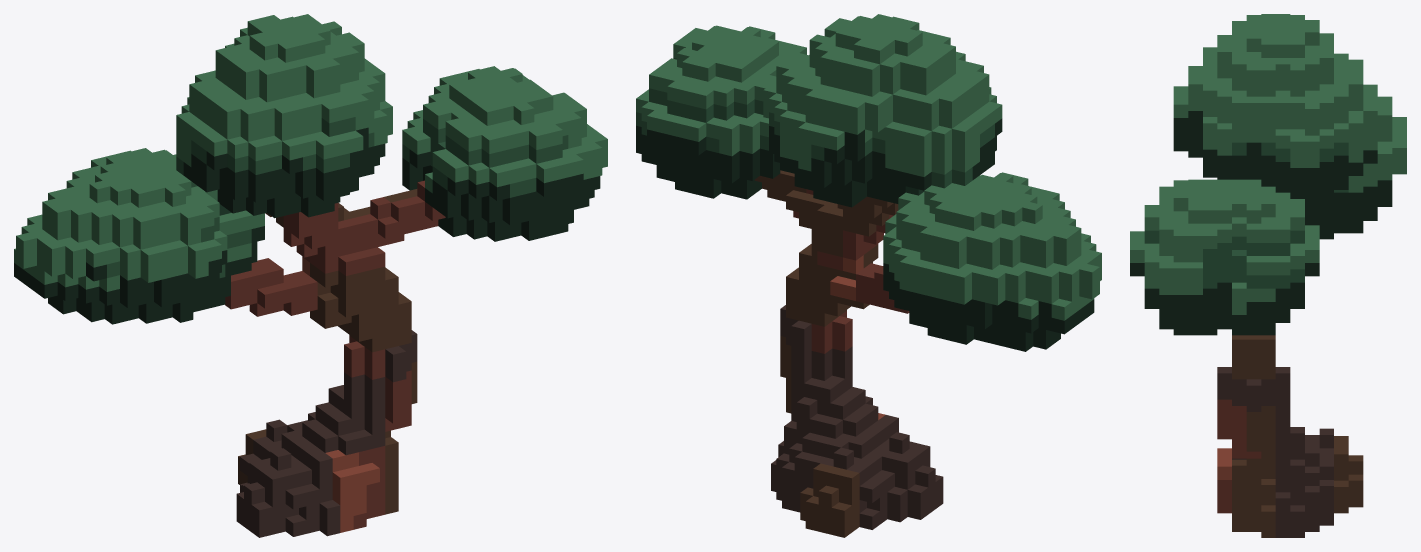
File: Mountain_Pine_v5_Small.fbx
3 views of the same model, side by side, from view 1: azimuth 30°, elevation 25°; view 2: azimuth 150°, elevation 25°; view 3: azimuth 270°, elevation 25° (orthographic). The views are drawn at different scales.
Visible parts, largest first — view 1: Mountain_Pine_v5_Small; view 2: Mountain_Pine_v5_Small; view 3: Mountain_Pine_v5_Small.
Part boxes in pixels (left/top/right/bottom): Mountain_Pine_v5_Small: left=14, top=14, right=607, bottom=537; Mountain_Pine_v5_Small: left=636, top=14, right=1101, bottom=537; Mountain_Pine_v5_Small: left=1130, top=14, right=1406, bottom=537.
Size of the model in its own units: 2.53 by 2.33 by 1.27.
Materials: 1 (1 with a texture image).
